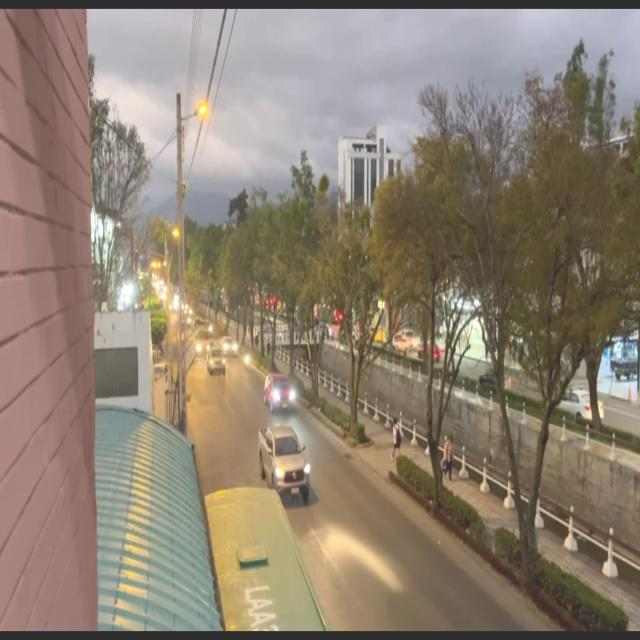CMT: (259, 429, 306, 497)
SUV: (267, 375, 292, 411)
